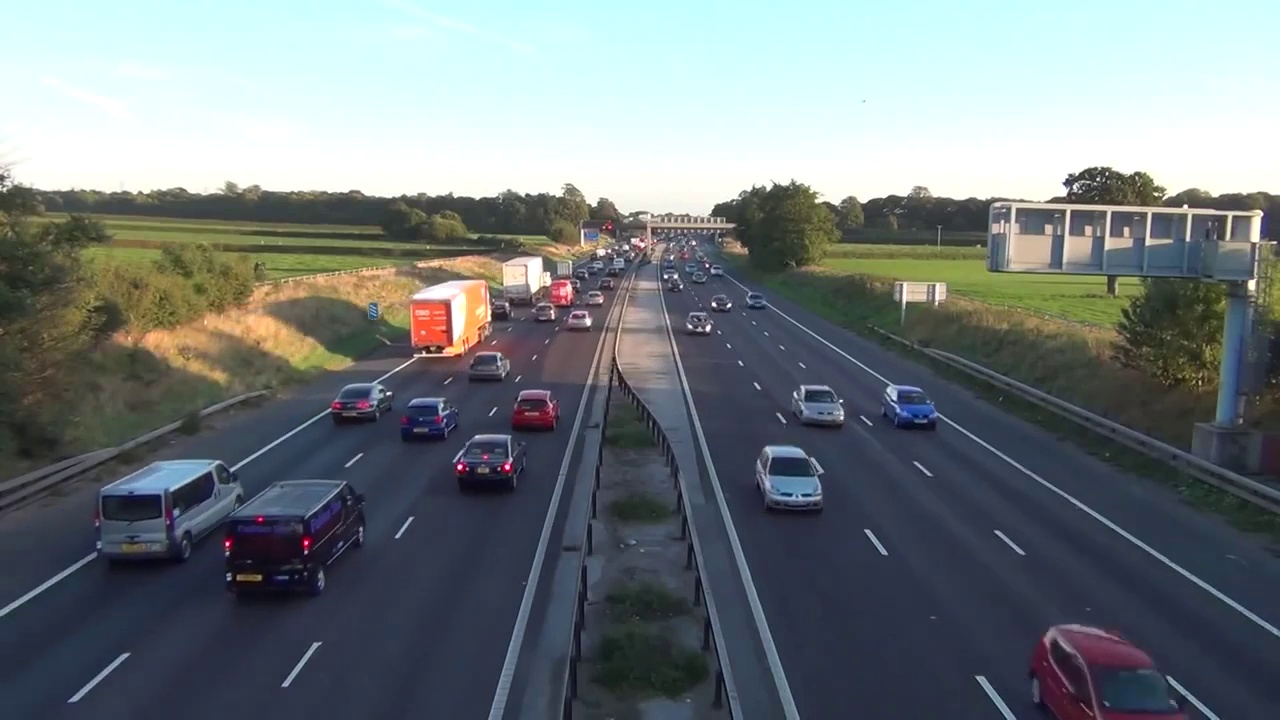bus: (1025, 615, 1177, 719), (751, 445, 830, 521), (449, 430, 536, 493), (328, 381, 398, 429), (789, 377, 851, 429), (879, 383, 944, 432), (400, 395, 461, 445), (510, 384, 561, 428), (469, 348, 513, 387), (685, 310, 714, 340), (532, 301, 558, 323), (492, 300, 517, 322), (567, 311, 594, 331), (744, 291, 770, 311), (708, 294, 733, 310), (583, 290, 605, 306), (541, 271, 554, 294), (573, 267, 592, 282), (709, 262, 726, 278), (598, 276, 615, 290), (667, 278, 684, 292), (568, 277, 582, 293), (684, 262, 699, 274), (692, 272, 706, 284), (605, 266, 620, 277), (663, 270, 678, 281), (665, 259, 677, 272), (593, 260, 606, 271), (587, 265, 597, 276)
car: (405, 276, 496, 360), (501, 256, 546, 307), (556, 258, 576, 279)
lorry: (90, 454, 251, 567), (223, 479, 373, 600), (548, 281, 573, 304), (612, 257, 625, 270)
